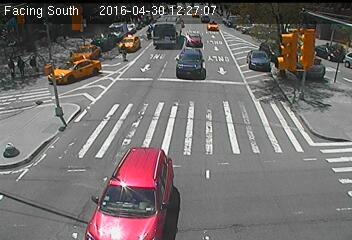neg: (157, 119, 211, 192), (78, 142, 129, 210), (218, 137, 261, 195), (32, 105, 66, 151), (323, 43, 351, 82), (276, 72, 302, 107), (141, 48, 166, 82), (178, 47, 201, 78), (50, 9, 69, 34), (99, 13, 114, 32), (239, 85, 248, 98), (192, 12, 200, 23), (146, 11, 152, 19)
pos: (226, 14, 253, 50), (6, 56, 33, 91), (1, 53, 24, 83), (114, 36, 135, 63), (24, 49, 43, 75)
